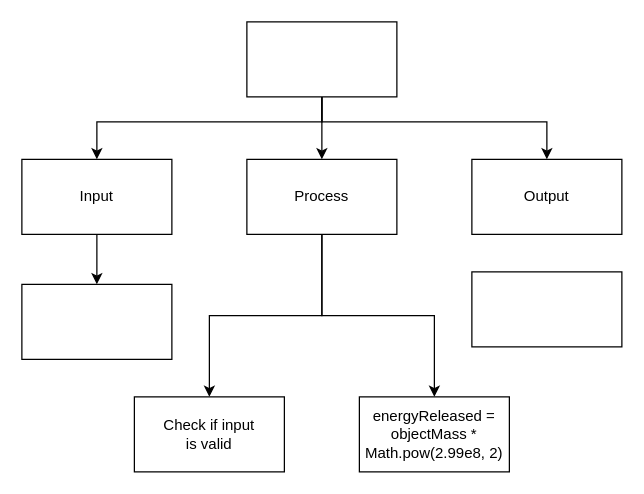
Some shapes in this 644 by 494 pixel diagram are drawn without their labels. Each missing label, with the centre of its shape:
EnergyReleased Program: point 321,59
Get objectMass: point 96,321
Print "energyReleased": point 546,309
